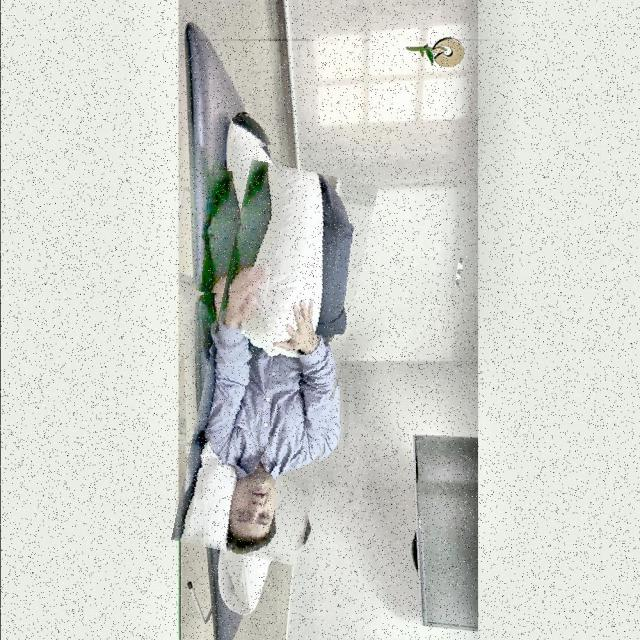Not_Supine: (205, 174, 354, 555), (202, 170, 241, 292), (234, 115, 271, 146)
